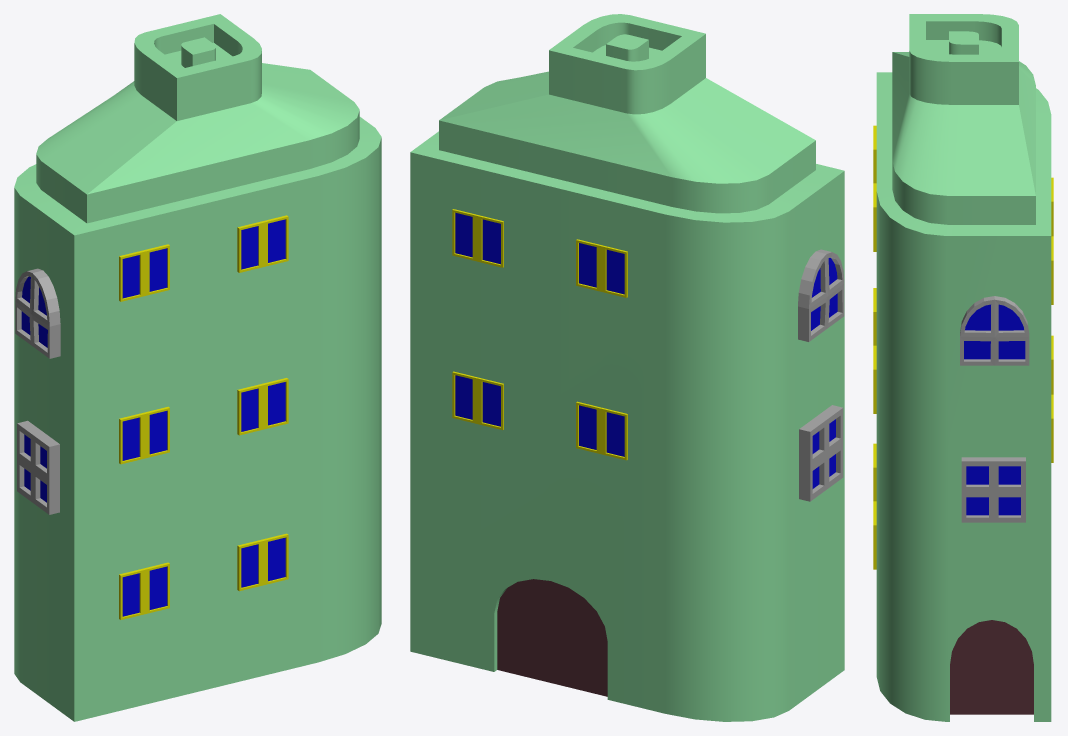
3 renders of one model, left to right at view 1: azimuth 30°, elevation 25°; view 2: azimuth 150°, elevation 25°; view 3: azimuth 270°, elevation 25°, orthographic. The views are drawn at different scales.
Parts seen in each view (by area): view 1: polySurface129, pCube129, pCube128, pCube120, pCube117, pCube118, pCube119, pCube121, pCube116; view 2: polySurface129, pCube129, pCube128, pCube131, pCube132, pCube130, pCube133; view 3: polySurface129, pCube127, pCube125.
Part boxes in pixels (bbox=[...]): polySurface129: bbox=[14, 14, 381, 721]; pCube129: bbox=[17, 420, 59, 514]; pCube128: bbox=[15, 268, 60, 358]; pCube120: bbox=[237, 533, 288, 591]; pCube117: bbox=[237, 215, 288, 272]; pCube118: bbox=[237, 378, 288, 435]; pCube119: bbox=[119, 406, 169, 464]; pCube121: bbox=[119, 562, 169, 619]; pCube116: bbox=[119, 244, 169, 301]; polySurface129: bbox=[410, 14, 844, 721]; pCube129: bbox=[799, 405, 843, 501]; pCube128: bbox=[798, 249, 844, 341]; pCube131: bbox=[576, 401, 627, 460]; pCube132: bbox=[576, 239, 627, 297]; pCube130: bbox=[452, 371, 503, 430]; pCube133: bbox=[452, 209, 503, 267]; polySurface129: bbox=[876, 14, 1051, 721]; pCube127: bbox=[960, 296, 1029, 365]; pCube125: bbox=[961, 457, 1025, 522].
Bounding box in the file's own units: 38.55 × 62.04 × 16.84.
